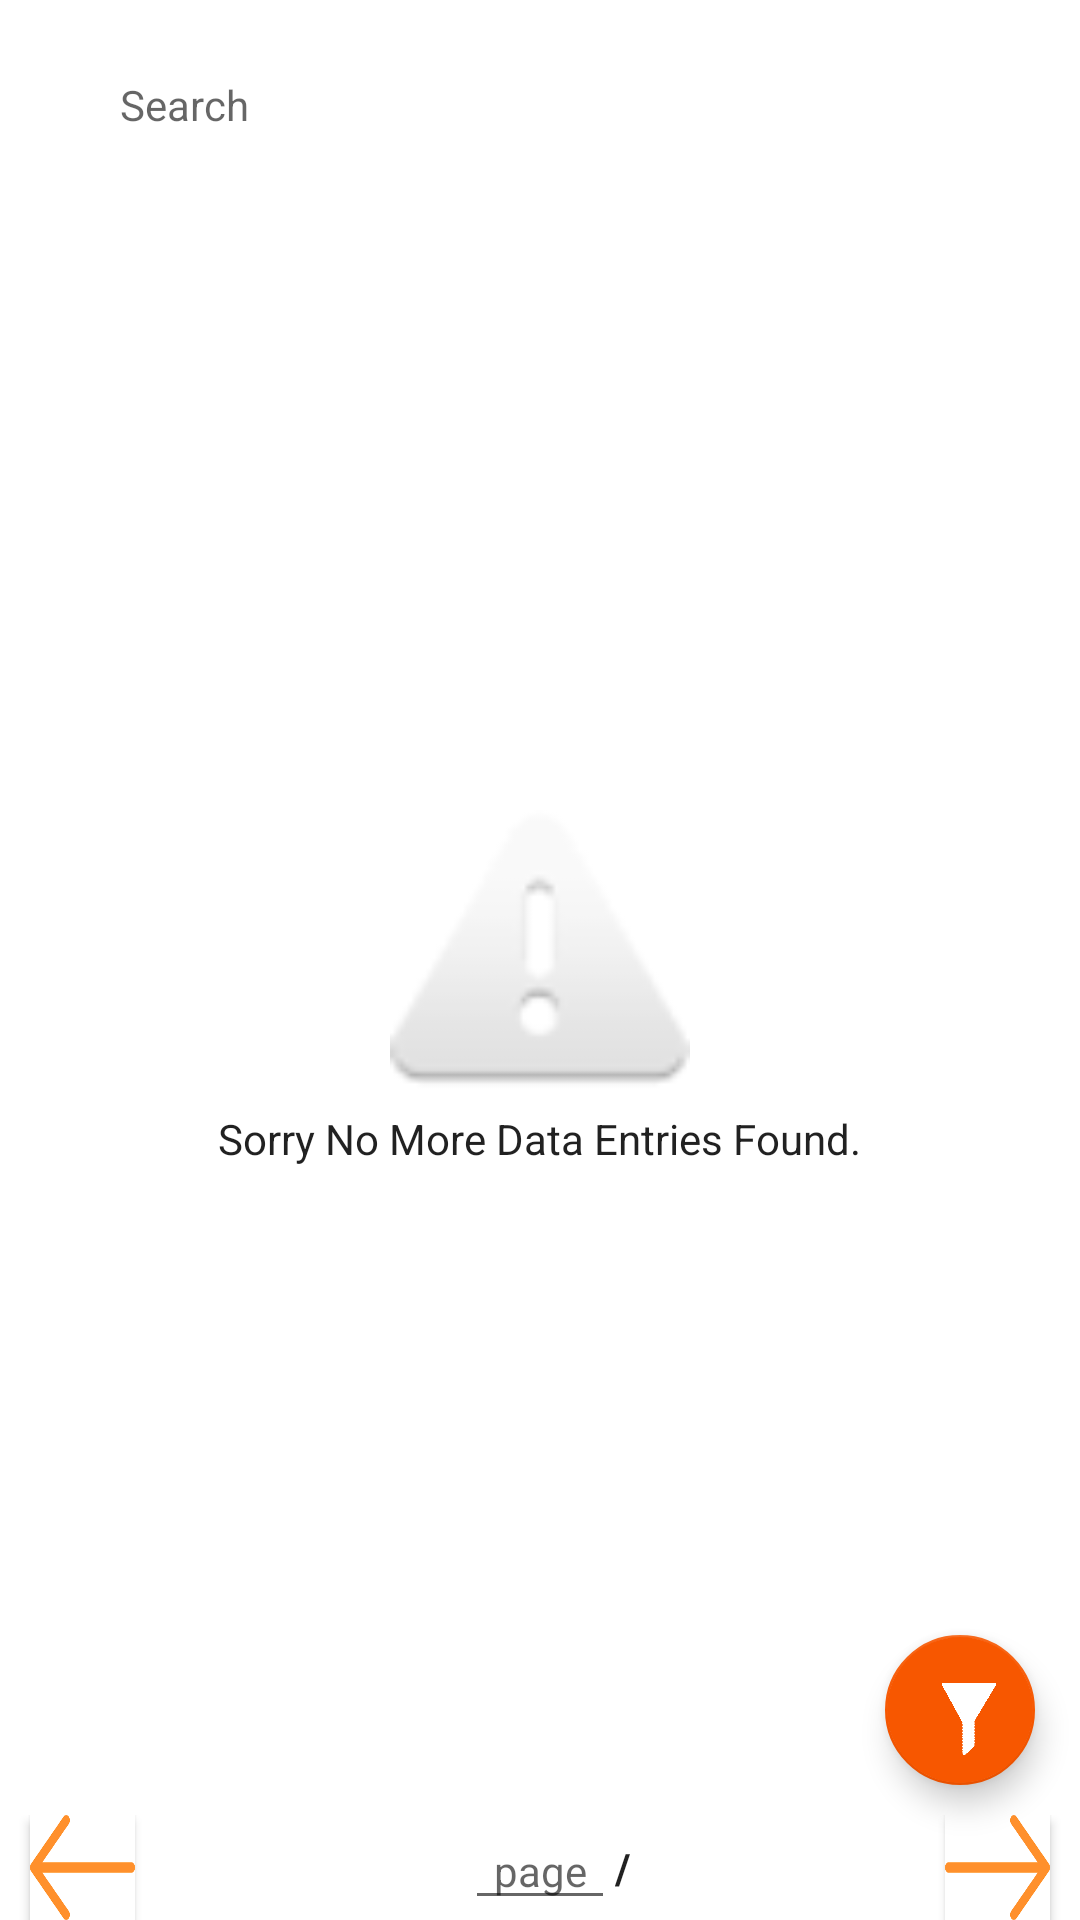

Screen size 1080*1920. Icon name, then its box in pixels as (left=x1, top=y1, right=x2, bottom=y2):
alert: (left=390, top=880, right=690, bottom=1082)
funnel: (left=885, top=1635, right=1035, bottom=1785)
next: (left=945, top=1815, right=1050, bottom=1920)
prev: (left=30, top=1815, right=135, bottom=1920)
